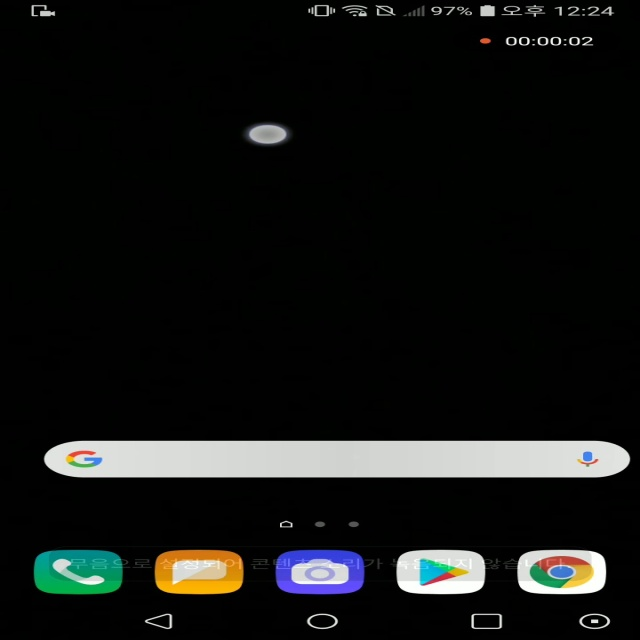Cursor: (245, 124, 289, 146)
